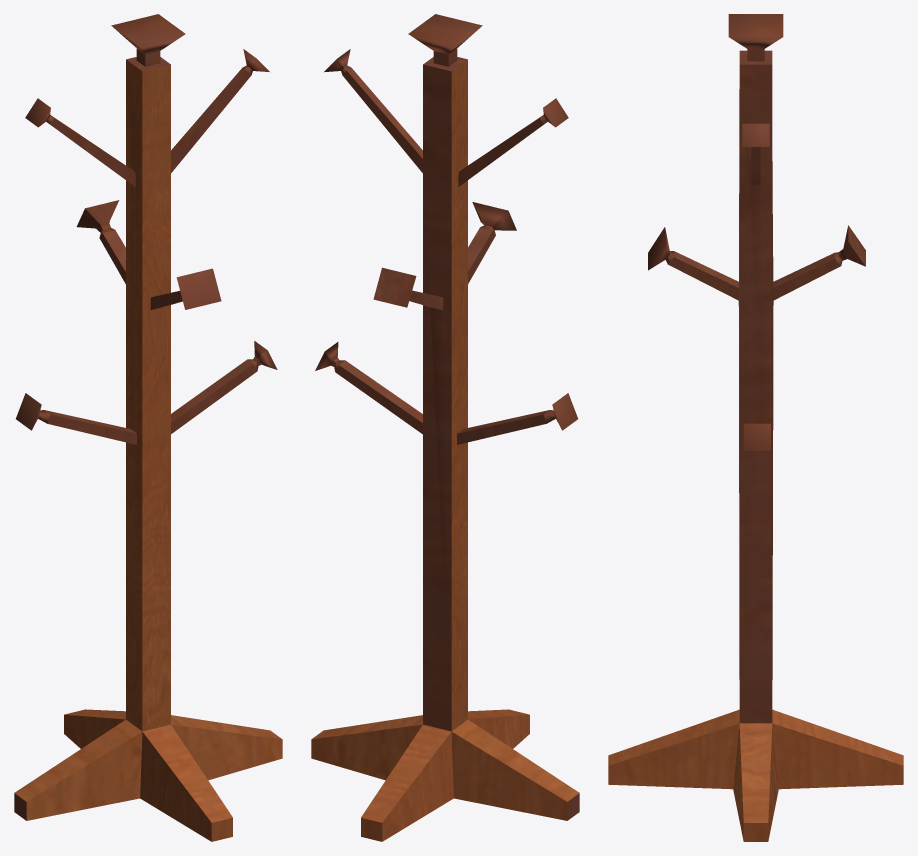
Rendered from Hat_Stand.fbx.
3 views of the same model, side by side, from view 1: azimuth 30°, elevation 25°; view 2: azimuth 150°, elevation 25°; view 3: azimuth 270°, elevation 25° (orthographic).
Visible parts, largest first — view 1: Hat_Rack; view 2: Hat_Rack; view 3: Hat_Rack.
Part boxes in pixels (<box>): Hat_Rack: <box>14,14,282,841</box>; Hat_Rack: <box>311,14,579,841</box>; Hat_Rack: <box>608,14,903,841</box>.
Size of the model in its own units: 84.04 by 237 by 84.04.
